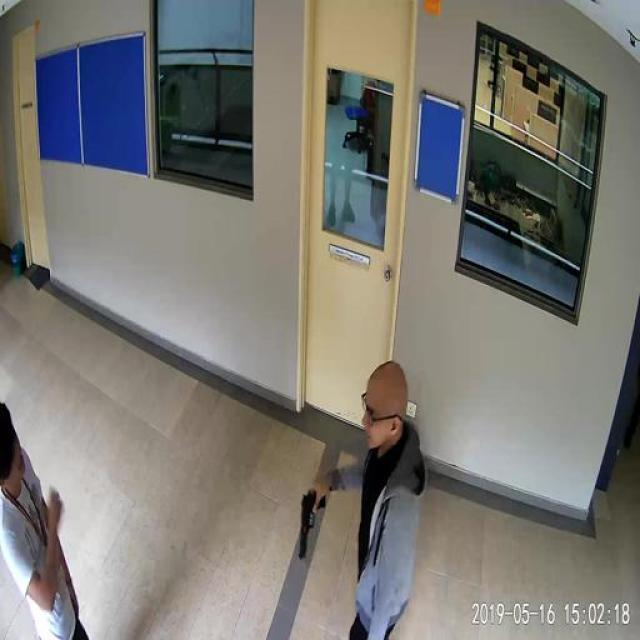Gun: (295, 480, 332, 568)
